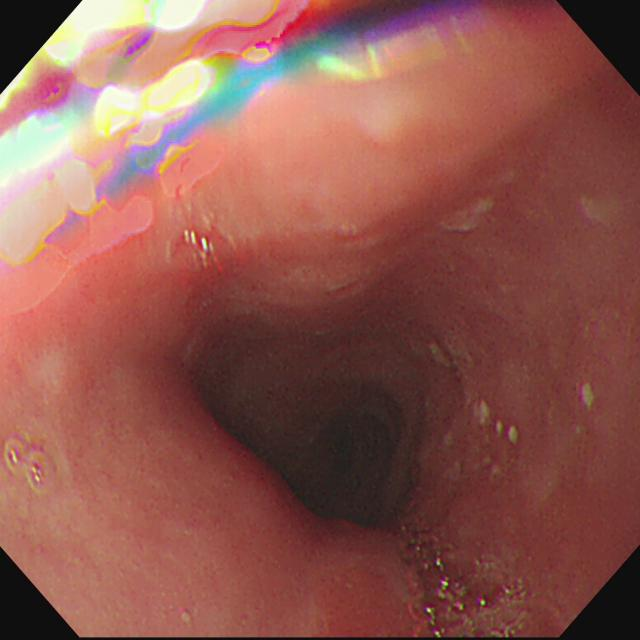E: (321, 418, 388, 516)
J: (444, 198, 496, 234), (476, 401, 519, 443), (430, 336, 476, 372)
T: (401, 526, 530, 640), (6, 440, 56, 492)
U: (2, 2, 479, 267)
